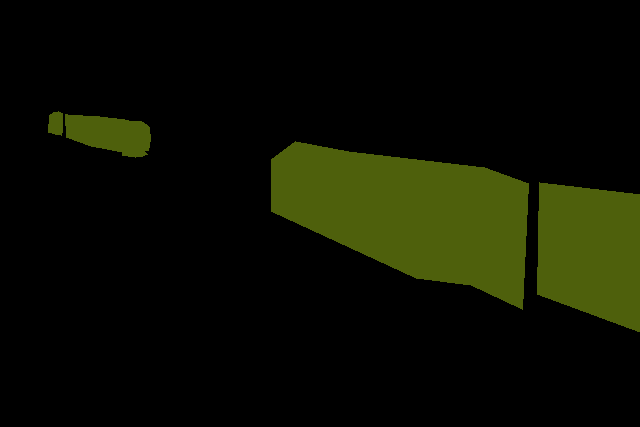Train: (271, 141, 640, 332), (48, 111, 150, 158)
